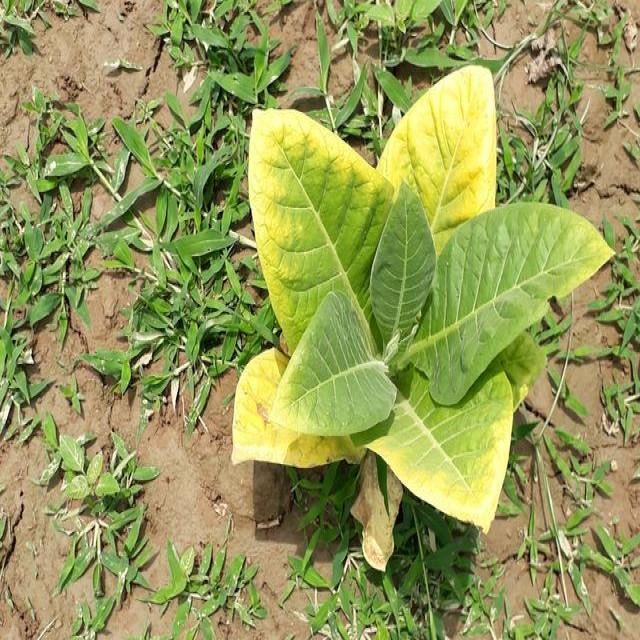crop: (235, 62, 614, 557)
